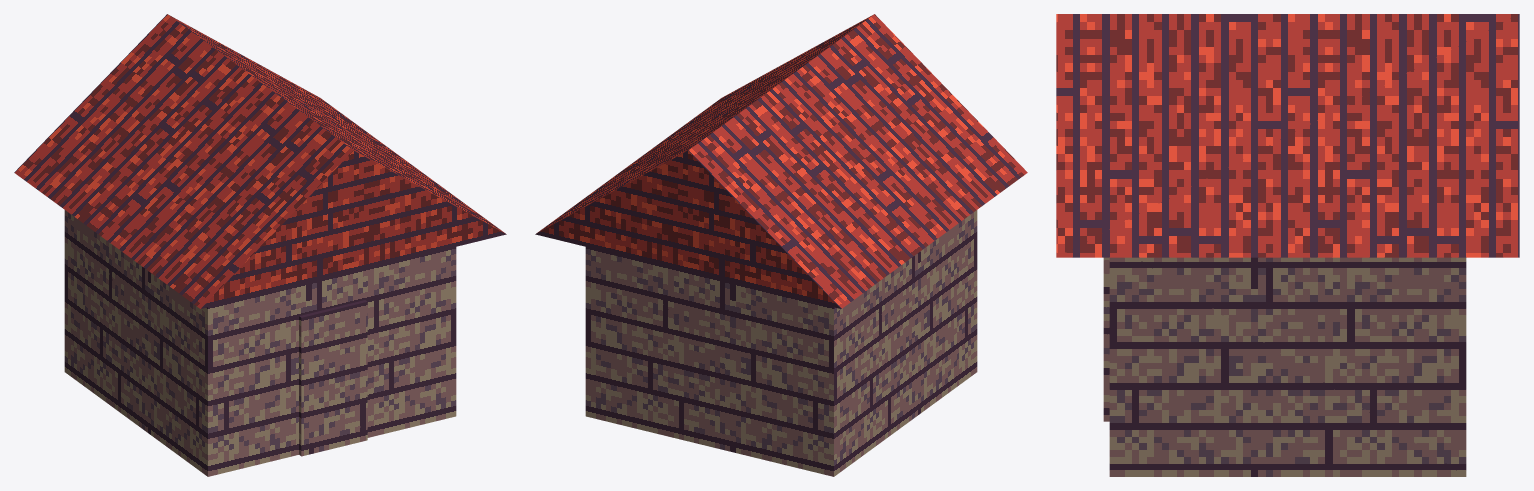
File: a66_casa_termal.glb
The picture shows the model from 3 angles, left to right: view 1: azimuth 30°, elevation 25°; view 2: azimuth 150°, elevation 25°; view 3: azimuth 270°, elevation 25°; orthographic projection. The views are drawn at different scales.
Visible parts, largest first — view 1: a66_casa_termal; view 2: a66_casa_termal; view 3: a66_casa_termal.
Part boxes in pixels (<box>): a66_casa_termal: <box>14,14,506,476</box>; a66_casa_termal: <box>535,14,1027,476</box>; a66_casa_termal: <box>1056,14,1519,476</box>.
Size of the model in its own units: 3.7 by 3.6 by 3.9.
Materials: 2 (2 with a texture image).
